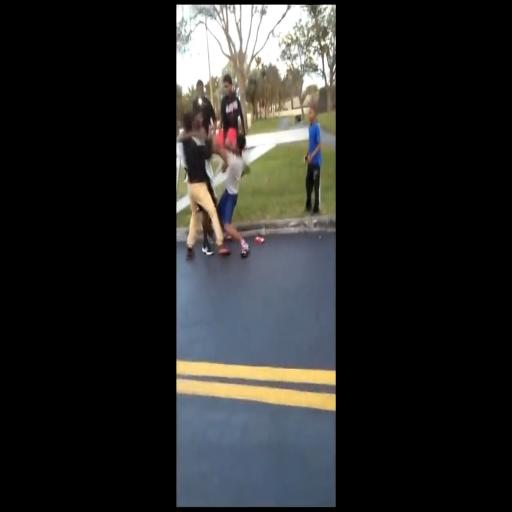violencia: (176, 98, 256, 267)
